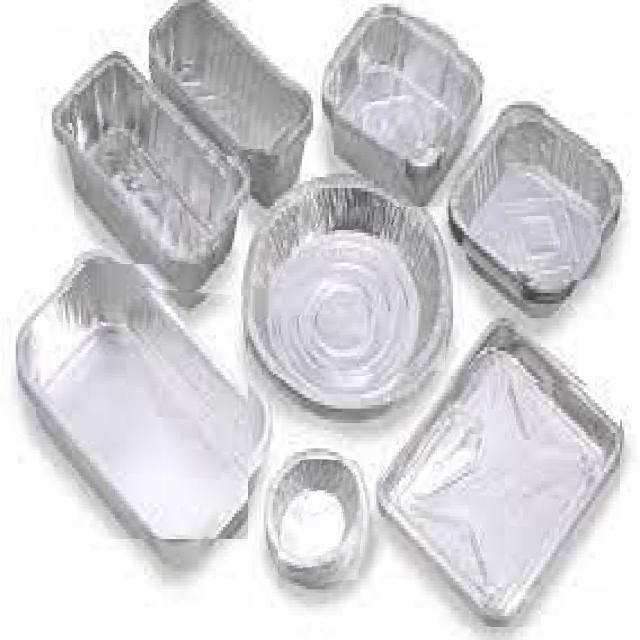Cans: (10, 277, 248, 539), (392, 376, 620, 627), (74, 38, 230, 264), (248, 207, 449, 381), (149, 0, 301, 158), (334, 17, 461, 156), (507, 110, 601, 282), (278, 460, 366, 589)
